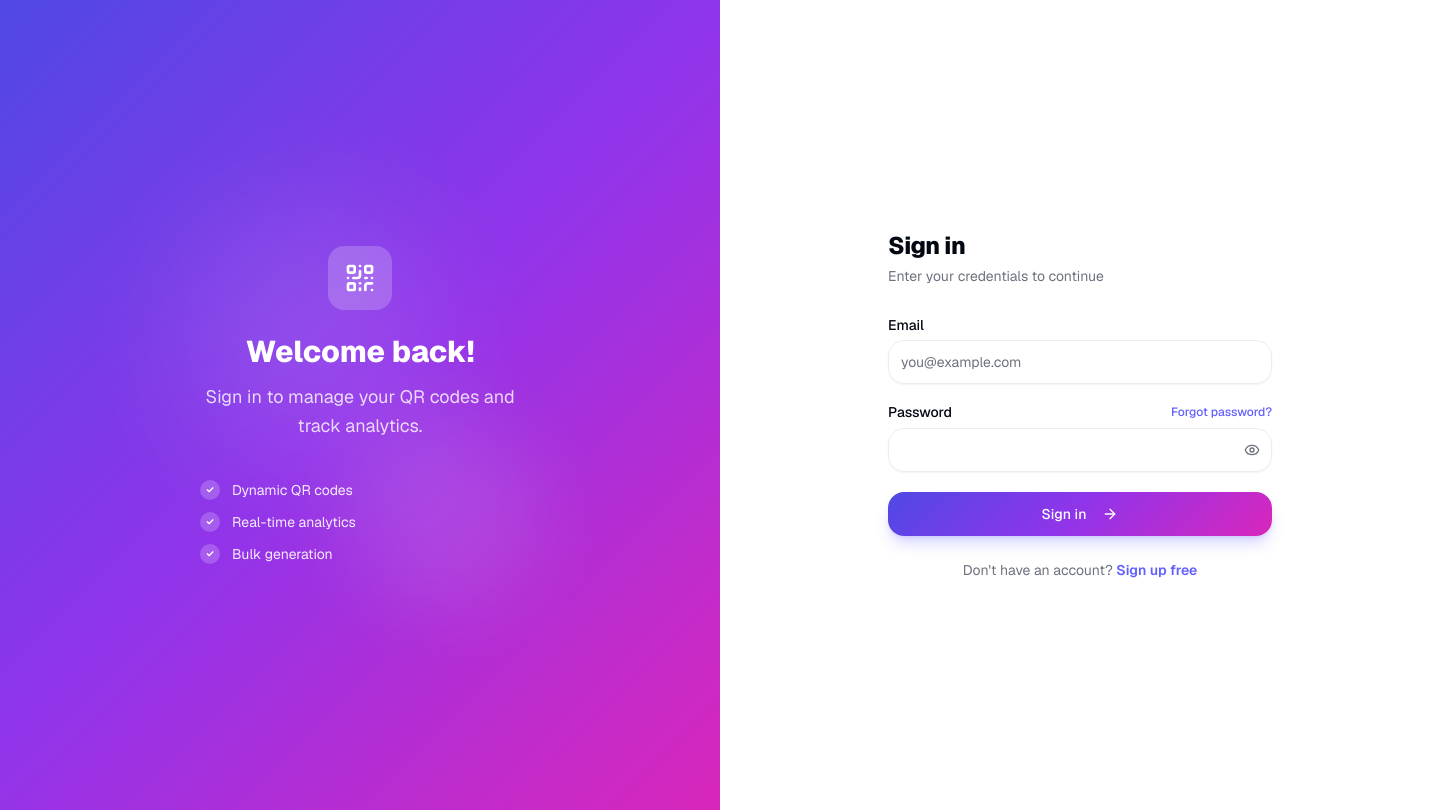
Login page › displays a generic error on network failure
Type "user@example.com" into the field labelled "Email" at (1080, 362), box x1=888 y1=340 x2=1272 y2=384
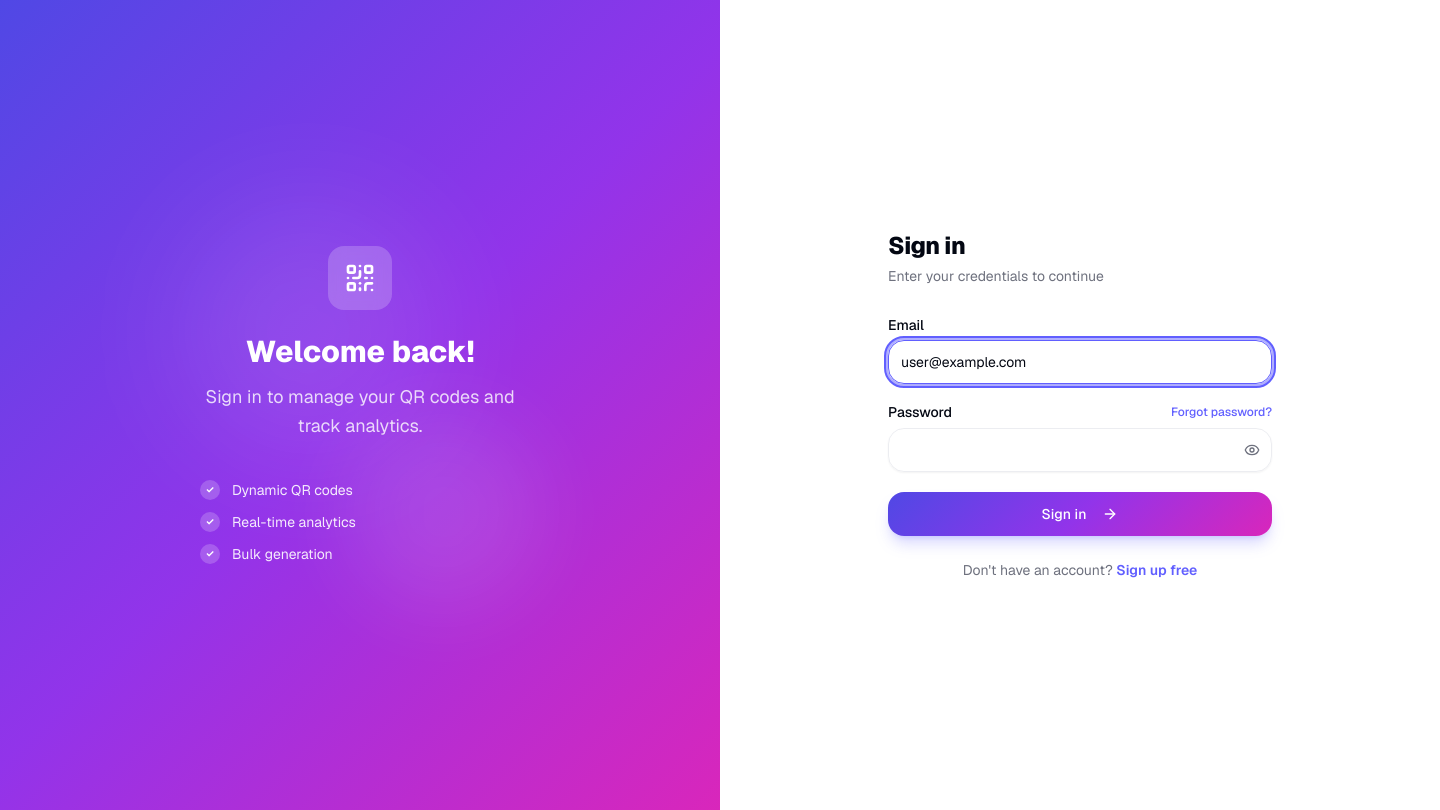
Type "Password1!" into the password field labelled "Password" at (1080, 450), box x1=888 y1=428 x2=1272 y2=472
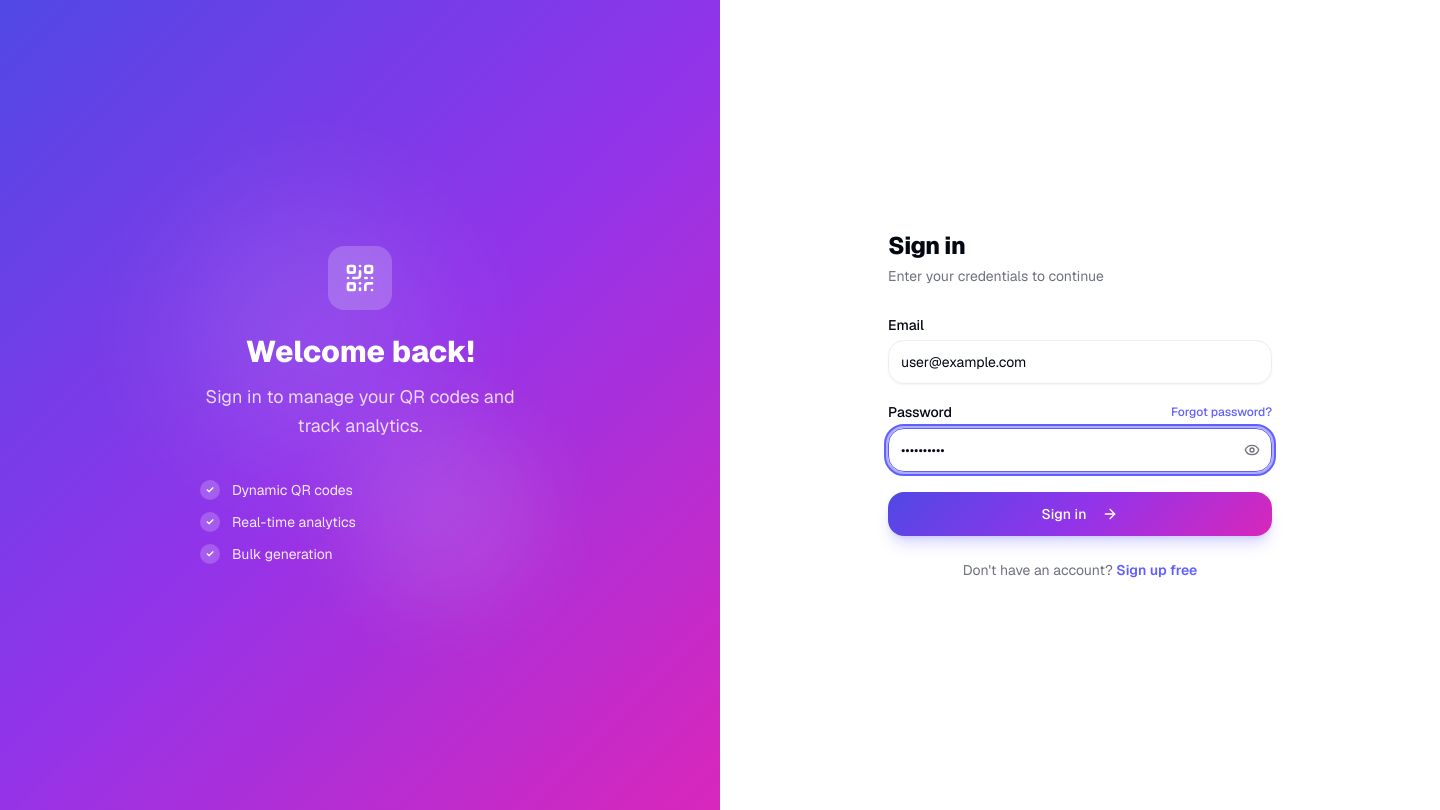
Click the button "Sign in" at (1080, 514), box x1=888 y1=492 x2=1272 y2=536
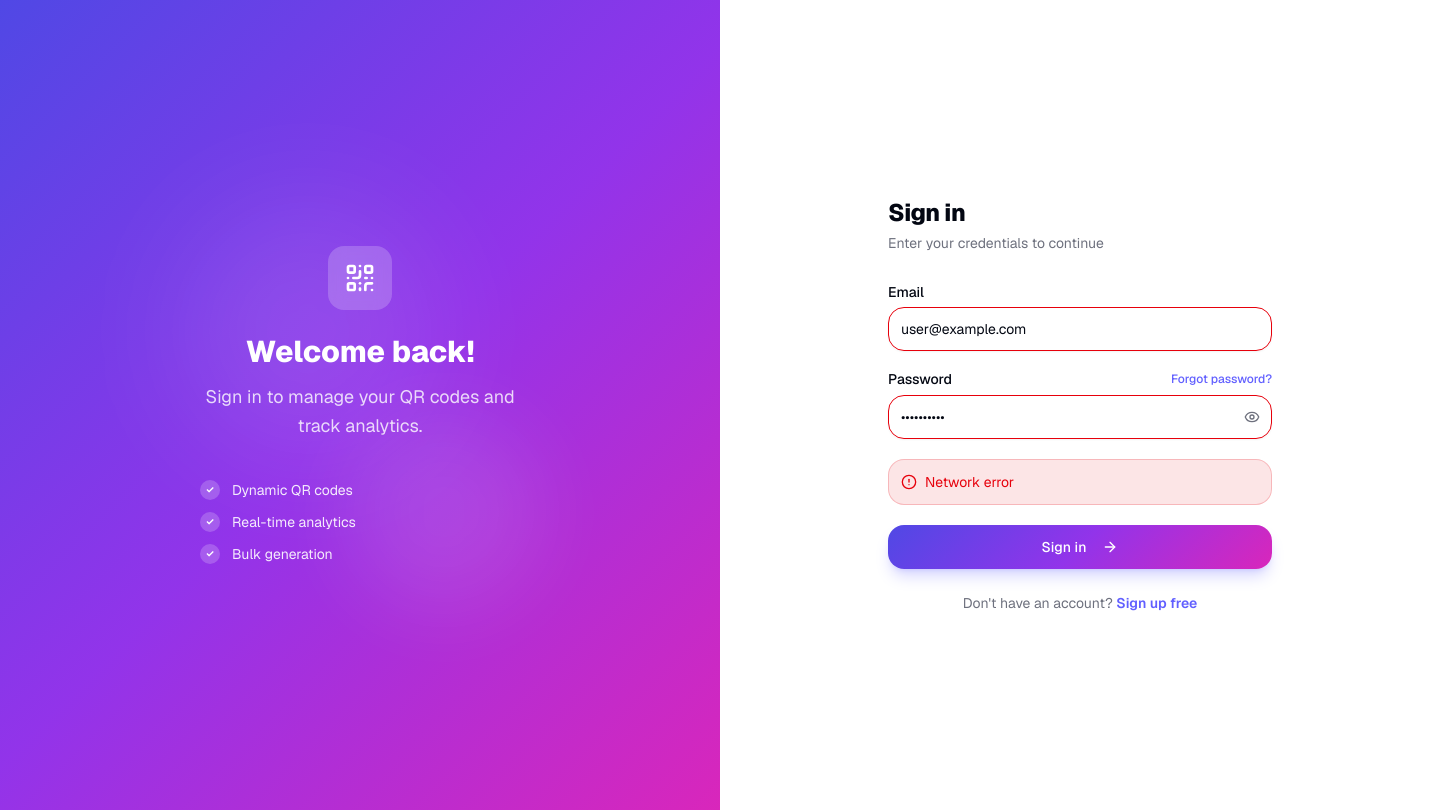
Expected: the text "Network error" is shown, x1=925 y1=472 x2=1014 y2=492
